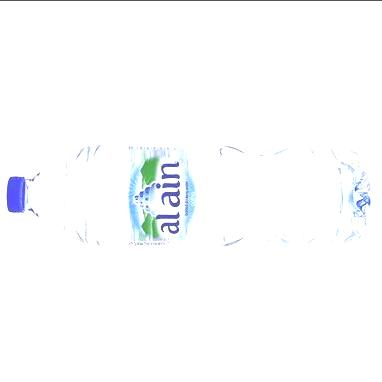bottle: (4, 141, 372, 248)
